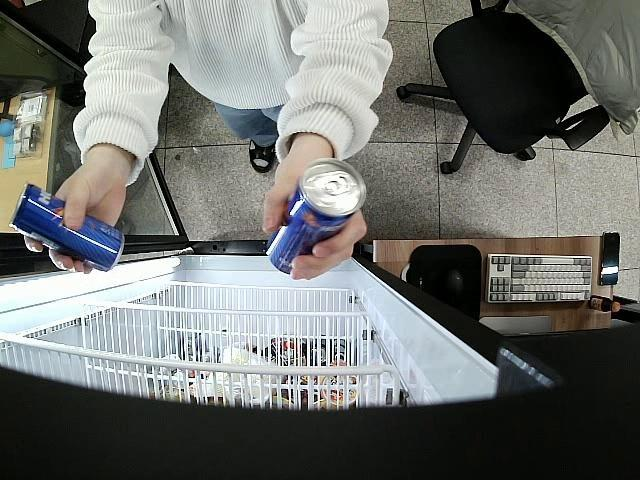16_hot6: (266, 158, 366, 274), (10, 184, 124, 271)
